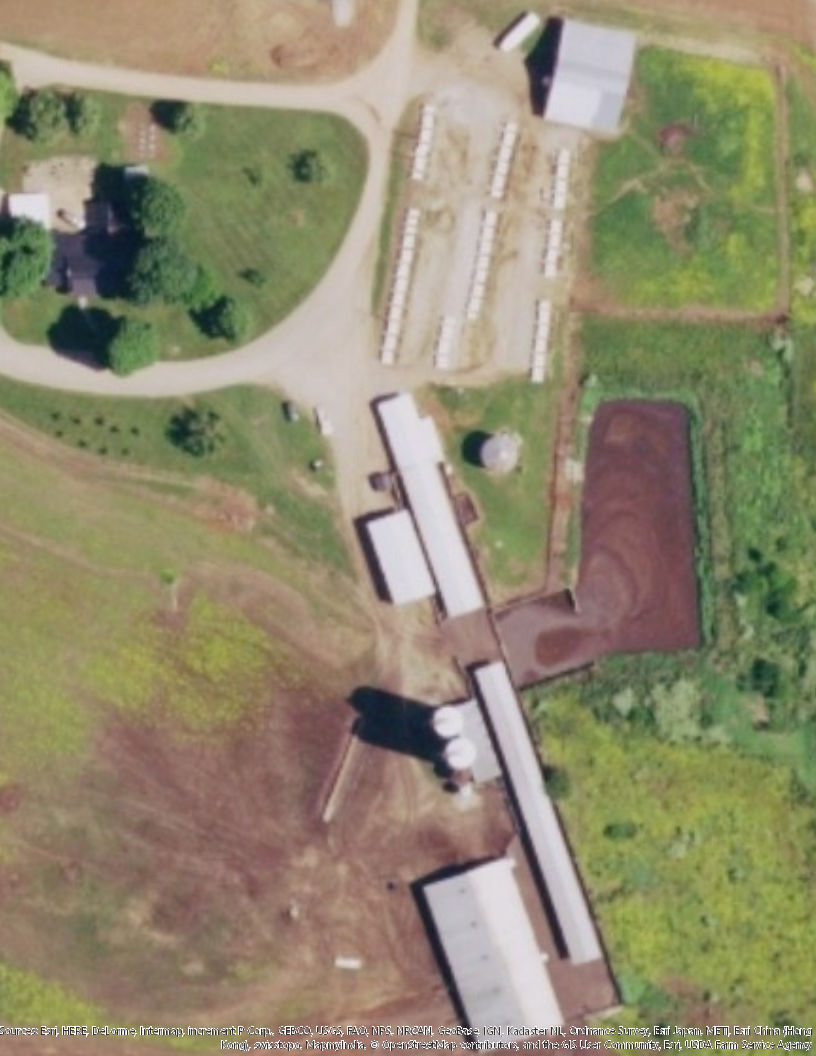cafo: (428, 645, 623, 970), (343, 383, 496, 635), (411, 848, 579, 1051)
